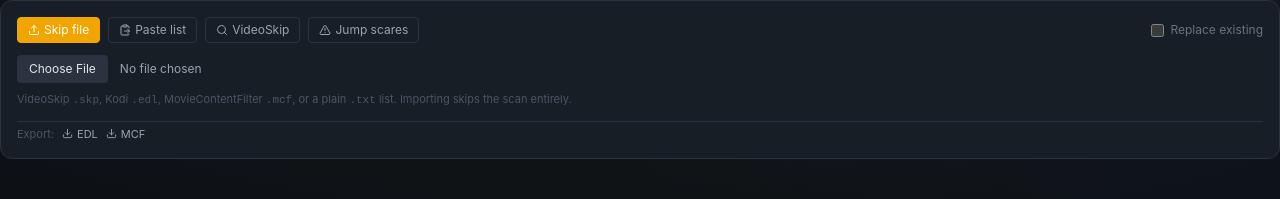
SkipFileImport › shows the empty result when a film has no listed jump scares
Click the button "Jump scares".
click(364, 30)  # box [308,17,419,43]
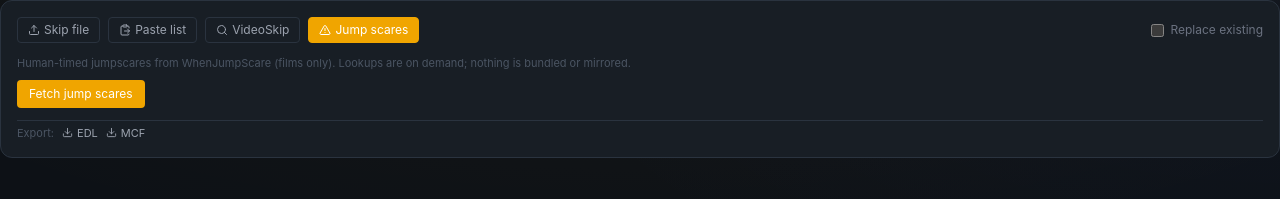
Click the button "Fetch jump scares".
click(81, 94)  # box [17,80,145,108]
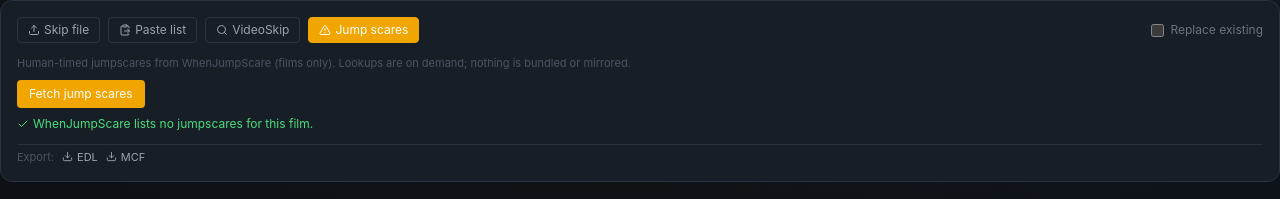
Expected: the text "WhenJumpScare lists no jumpscares for this film." is shown, [17,116,313,130]
